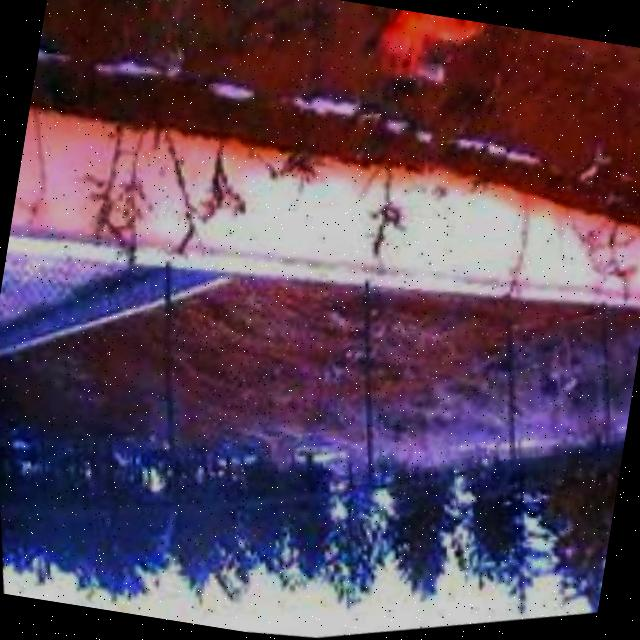fire: (354, 3, 546, 105)
